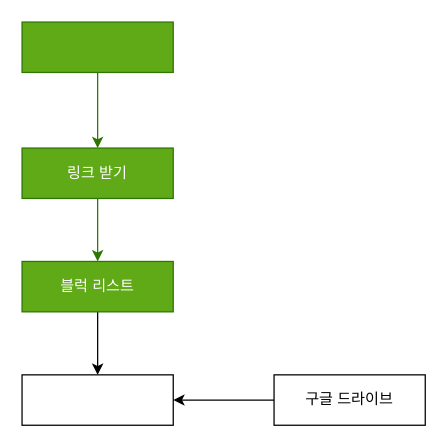
This 447x447 diagram has some shape labels left out. The centre of each missing label's shape, as x and y in pixels:
notion 링크: pixel 97 46
머크다운 변환: pixel 97 399
